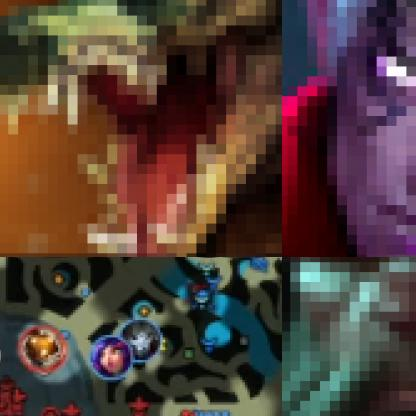Bard: (20, 327, 66, 372)
Gangplank: (282, 257, 415, 415)
Jhin: (120, 318, 163, 364)
Neeko: (89, 338, 133, 380)
Renekton: (0, 0, 281, 256)
Varus: (282, 0, 415, 256)
